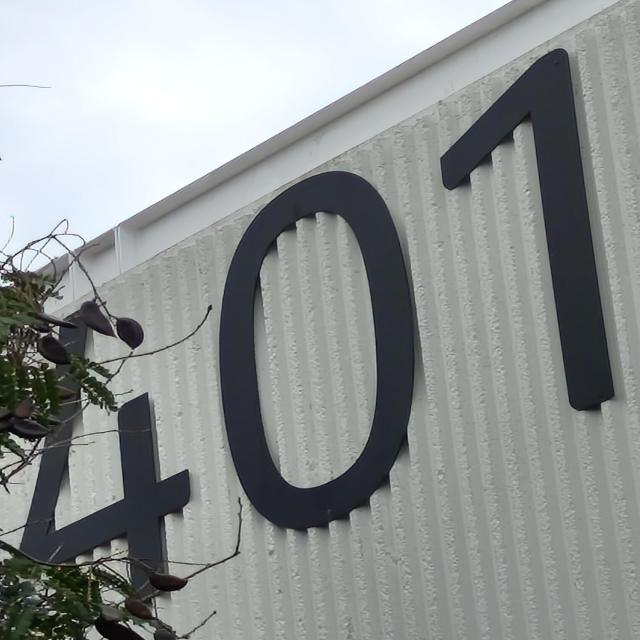character: (210, 166, 427, 536), (434, 46, 626, 415), (3, 303, 199, 608)
